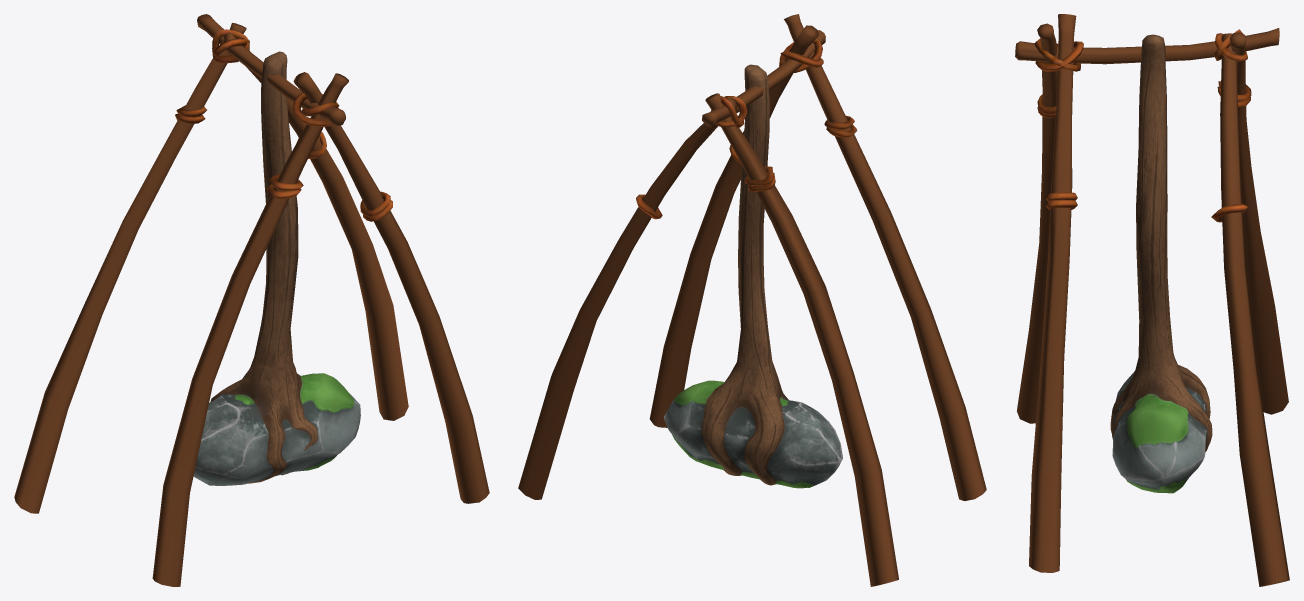
The model's file is swing axe.fbx.
3 views of the same model, side by side, from view 1: azimuth 30°, elevation 25°; view 2: azimuth 150°, elevation 25°; view 3: azimuth 270°, elevation 25° (orthographic). The views are drawn at different scales.
Visible parts, largest first — view 1: BezierCircle.319, rubblers_hammer_R_2; view 2: BezierCircle.319, rubblers_hammer_R_2; view 3: BezierCircle.319, rubblers_hammer_R_2.
Boxes of the visible parts, x1,y1,x2,y2 form: BezierCircle.319: (14,14,489,586); rubblers_hammer_R_2: (193,51,360,485); BezierCircle.319: (518,14,986,586); rubblers_hammer_R_2: (663,64,842,488); BezierCircle.319: (1015,14,1289,586); rubblers_hammer_R_2: (1110,34,1212,493).
Bounding box in the file's own units: 160 × 184 × 93.99.
2 materials, 2 textured.
